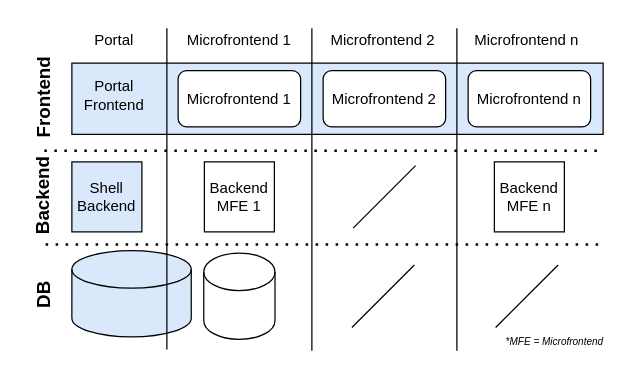
This 628x374 diagram has some shape labels left out. Here are the shapes that lost their labels. From the top down, the centre of each, then its label:
At point 131,293: "Shell DB".
At point 238,295: "MFE1 DB".
